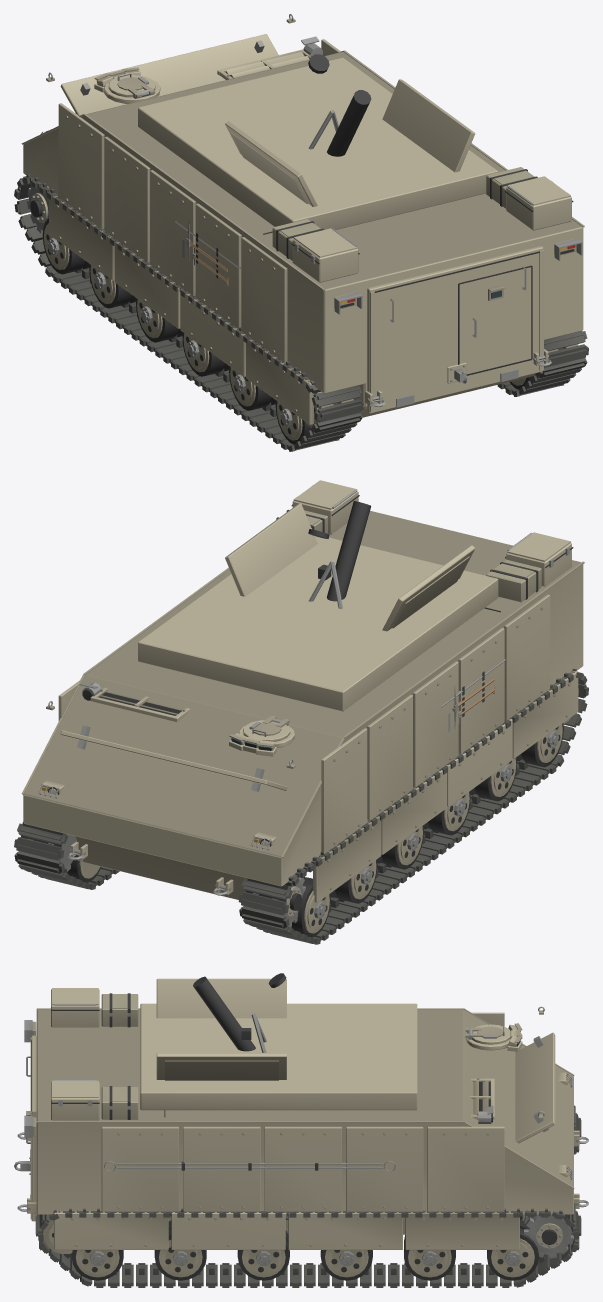
File: usa_mor_1287.glb
3 views of the same model, one above another, from view 1: azimuth 30°, elevation 25°; view 2: azimuth 150°, elevation 25°; view 3: azimuth 270°, elevation 25° (orthographic). The views are drawn at different scales.
Visible parts, largest first — view 1: body, barrel; view 2: body, barrel; view 3: body, barrel.
Part boxes in pixels (x1=…): body: x1=14, y1=14, x2=588, y2=451; barrel: x1=308, y1=54, x2=371, y2=156; body: x1=14, y1=480, x2=588, y2=944; barrel: x1=308, y1=501, x2=371, y2=609; body: x1=14, y1=978, x2=588, y2=1287; barrel: x1=193, y1=973, x2=286, y2=1052.
Size of the model in its own units: 3.44 by 3.45 by 7.06.
